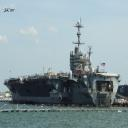Portanaves: (4, 16, 122, 109)
